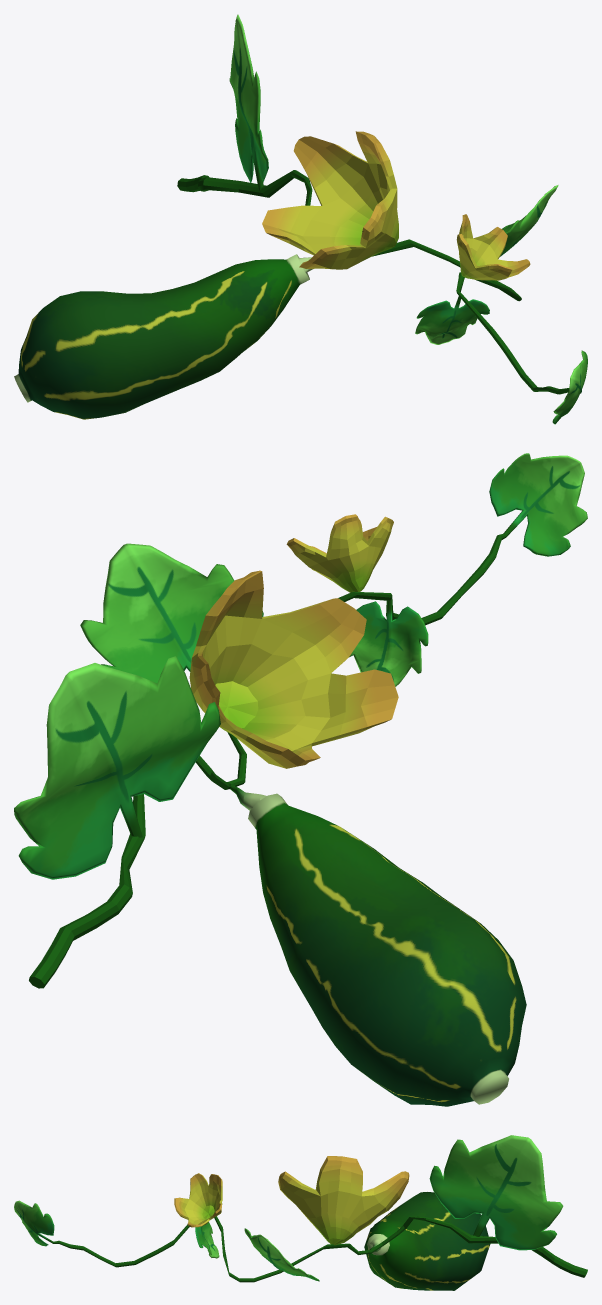
The model's file is Veg_Calabacin_L.fbx.
3 views of the same model, one above another, from view 1: azimuth 30°, elevation 25°; view 2: azimuth 150°, elevation 25°; view 3: azimuth 270°, elevation 25° (orthographic). The views are drawn at different scales.
Visible parts, largest first — view 1: calabazin; view 2: calabazin; view 3: calabazin.
Part boxes in pixels (x1,y1,x2,y2): calabazin: (14, 14, 587, 424); calabazin: (14, 453, 587, 1106); calabazin: (14, 1135, 587, 1290).
Size of the model in its own units: 39.45 by 24.01 by 16.83.
